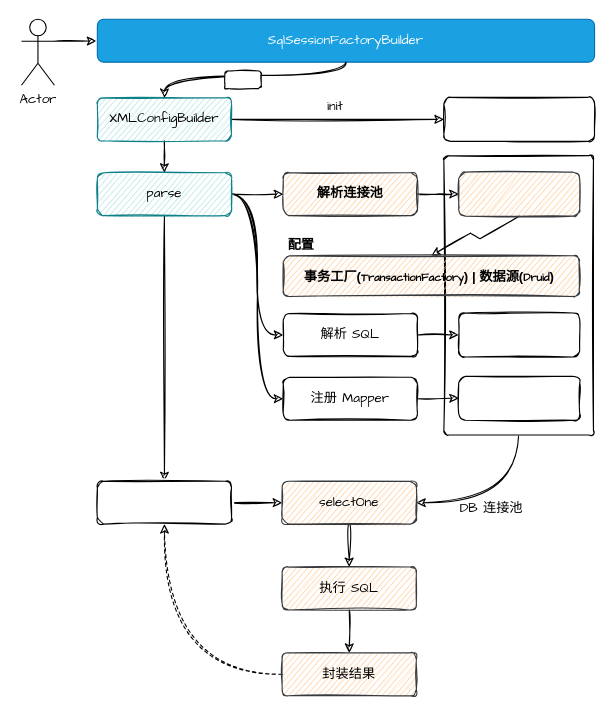
Image size: 614x715. Some labels were removed from this diagram. Here are the shapes that lost their labels. From the top down, the centre of each, then its label:
At point (242, 79): "IO".
At point (519, 118): "Configuration".
At point (519, 193): "Environment".
At point (519, 334): "MappedStatement".
At point (519, 397): "MapperRegistry".
At point (164, 502): "DefaultSqlSession".
